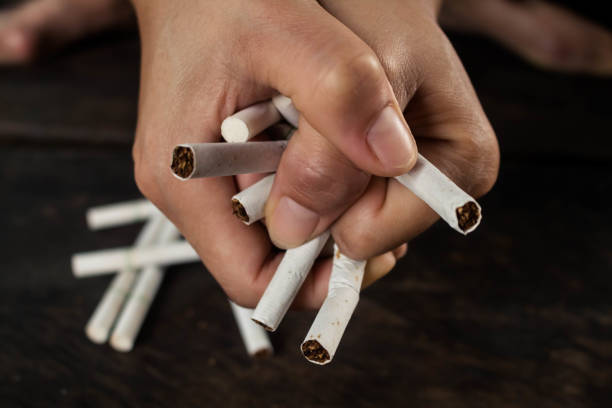cigarette: (84, 216, 167, 344), (108, 220, 181, 354), (250, 228, 331, 330), (300, 244, 367, 366), (393, 152, 483, 235), (69, 238, 200, 280), (168, 140, 289, 182), (227, 298, 272, 358), (228, 172, 277, 226), (220, 100, 281, 143), (85, 199, 161, 231), (273, 91, 300, 129)
